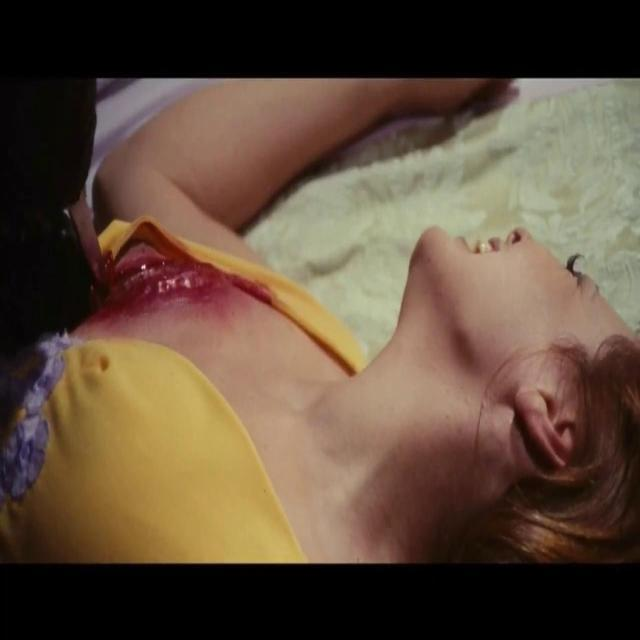flood: (124, 258, 218, 308)
